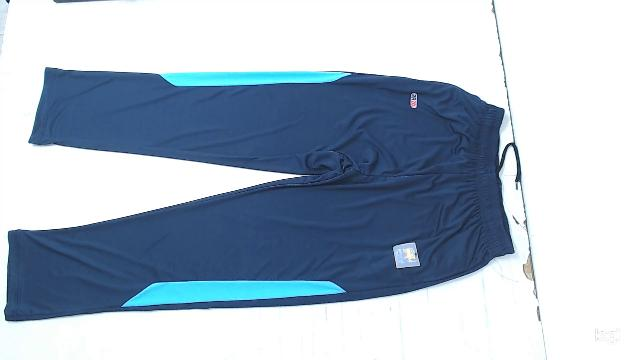new-garment: (5, 68, 513, 320)
